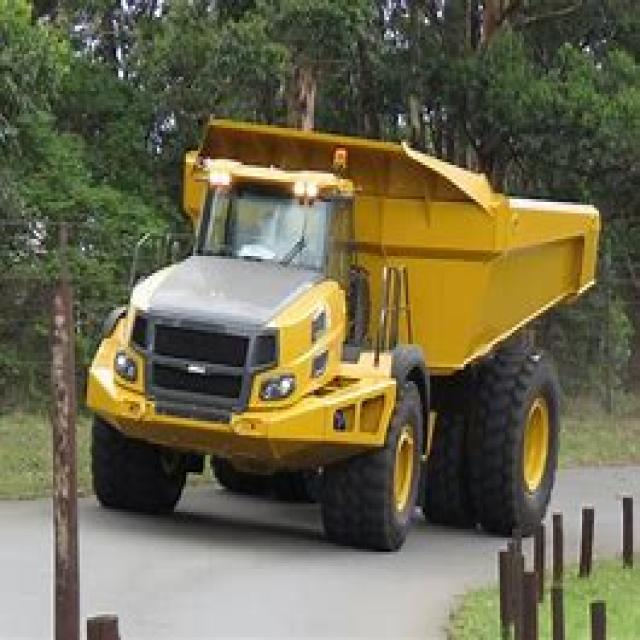dump_truck: (94, 108, 597, 555)
